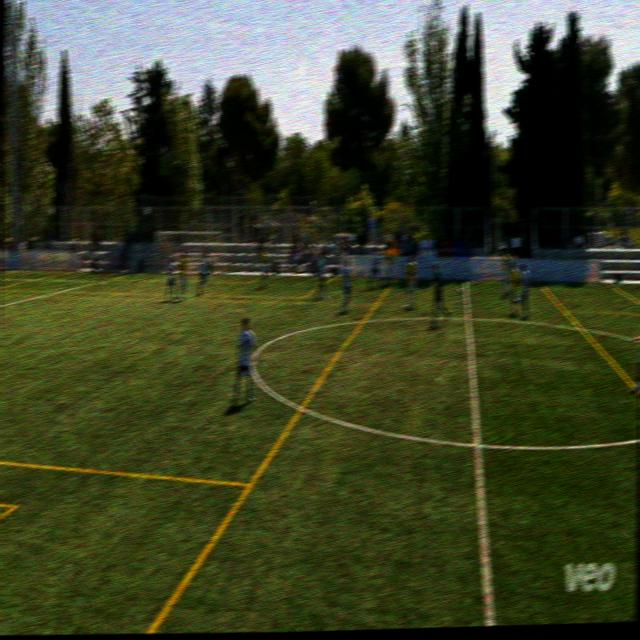bigarea_top_inner: (91, 275, 108, 286)
halfcircle_bottom: (464, 421, 491, 467)
halfcircle_top: (461, 310, 475, 326)
midline_top_intersection: (458, 276, 472, 288)
